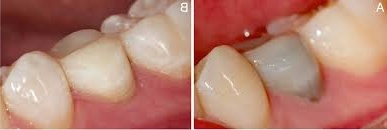Tooth Discoloration: (238, 22, 328, 111)
